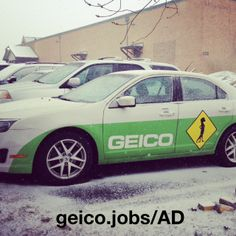Geico: (107, 133, 176, 148)
